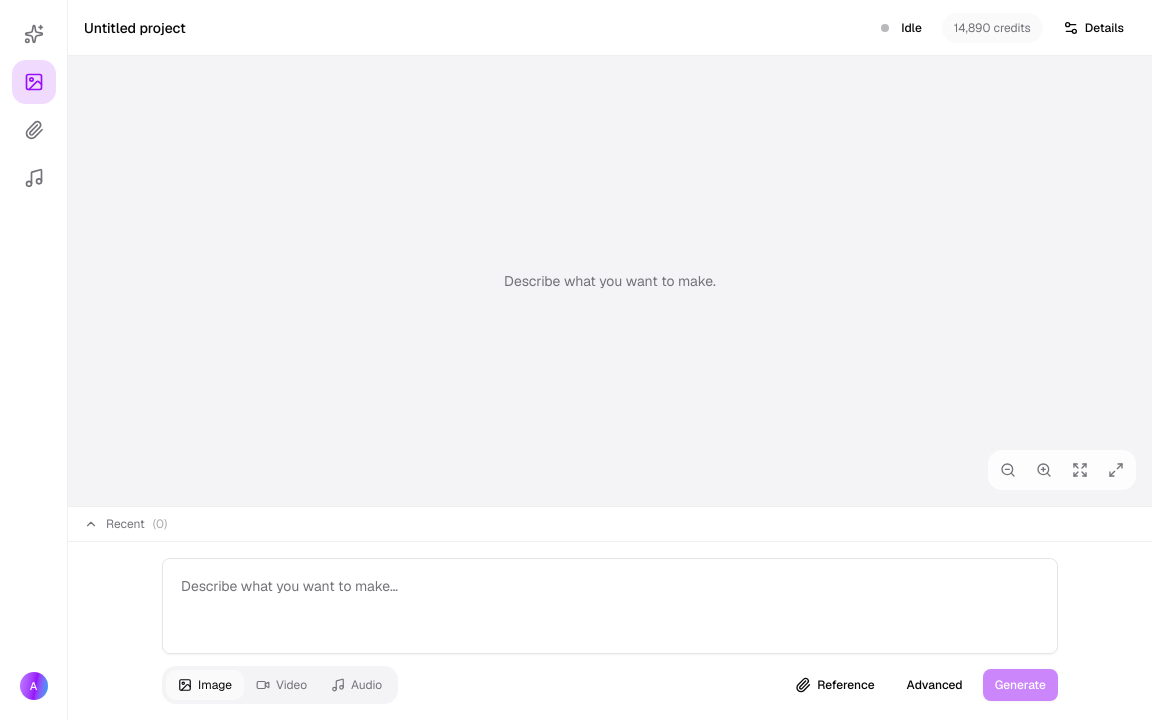
Test: a model that chooses its own length says so › renders 'Up to 10 seconds' and never a bare figure
Click the button "Video" at [282, 685], box [244,670,319,700]
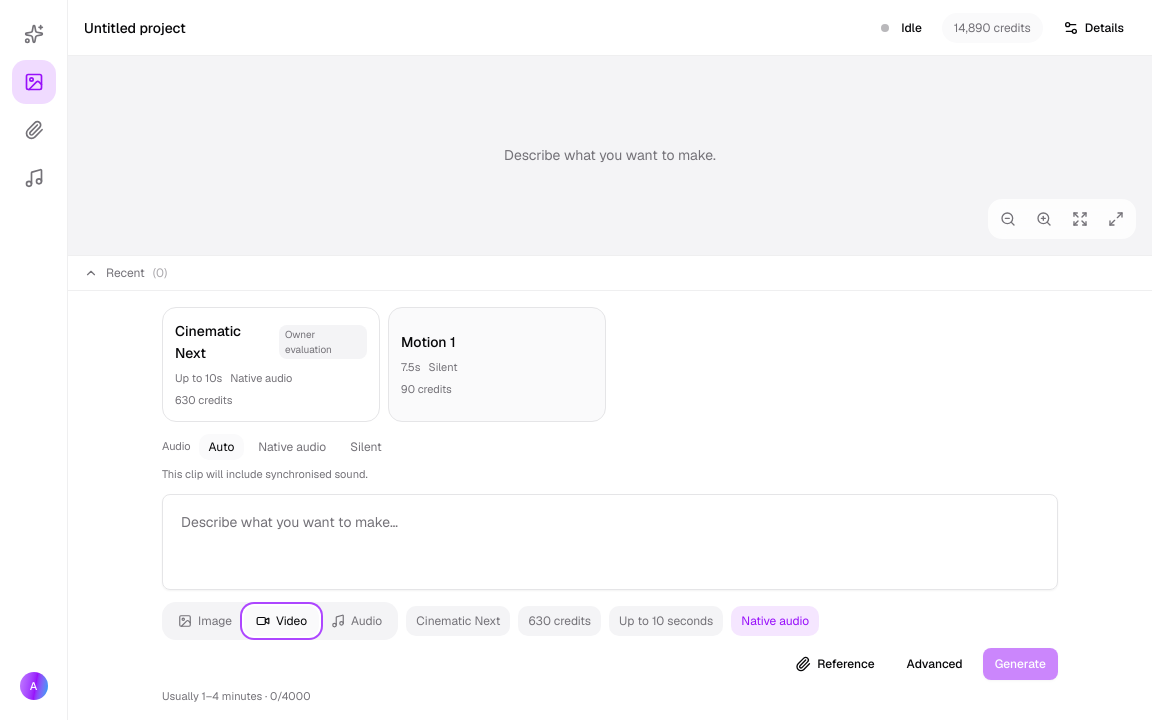
Result: the text "Up to 10 seconds" is shown at [609,606,723,636]
